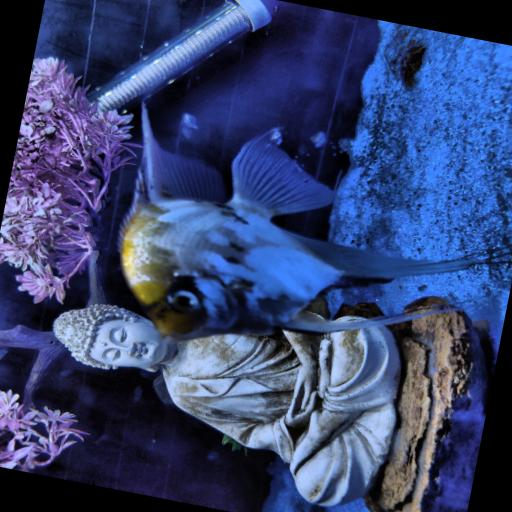Fish: (120, 106, 477, 341)
